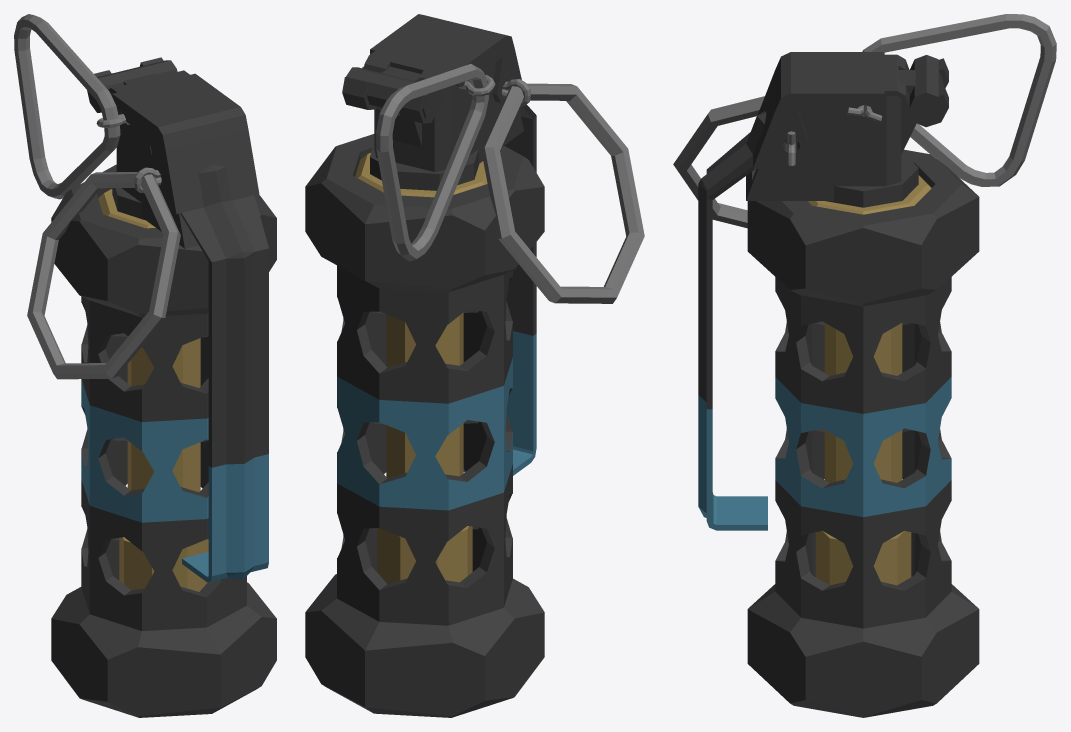
File: m84_stun_grenade_low-poly.glb
The picture shows the model from 3 angles, left to right: view 1: azimuth 30°, elevation 25°; view 2: azimuth 150°, elevation 25°; view 3: azimuth 270°, elevation 25°; orthographic projection. The views are drawn at different scales.
Parts seen in each view (by area): view 1: M84 Stun Grenade 1, M84 Stun Grenade 1 Safety Level 1_M84 Stun Grenade 1 Materia (×2), M84 Stun Grenade 1 Safety Pin 1 Ring 1_M84 Stun Grenade 1 Ma, M84 Stun Grenade 1 Secondary Safety Pin 1 Ring 1_M84 Stun Gr; view 2: M84 Stun Grenade 1, M84 Stun Grenade 1 Safety Level 1_M84 Stun Grenade 1 Materia (×2), M84 Stun Grenade 1 Safety Pin 1 Ring 1_M84 Stun Grenade 1 Ma, M84 Stun Grenade 1 Secondary Safety Pin 1 Ring 1_M84 Stun Gr; view 3: M84 Stun Grenade 1, M84 Stun Grenade 1 Safety Level 1_M84 Stun Grenade 1 Materia (×2), M84 Stun Grenade 1 Secondary Safety Pin 1 Ring 1_M84 Stun Gr, M84 Stun Grenade 1 Safety Pin 1 Ring 1_M84 Stun Grenade 1 Ma.
Boxes of the visible parts, bbox=[...] form: M84 Stun Grenade 1: bbox=[51, 60, 276, 717]; M84 Stun Grenade 1 Safety Level 1_M84 Stun Grenade 1 Materia (×2): bbox=[87, 57, 268, 582]; M84 Stun Grenade 1 Safety Pin 1 Ring 1_M84 Stun Grenade 1 Ma: bbox=[27, 172, 180, 379]; M84 Stun Grenade 1 Secondary Safety Pin 1 Ring 1_M84 Stun Gr: bbox=[14, 14, 120, 199]; M84 Stun Grenade 1: bbox=[305, 61, 544, 717]; M84 Stun Grenade 1 Safety Level 1_M84 Stun Grenade 1 Materia (×2): bbox=[342, 14, 536, 475]; M84 Stun Grenade 1 Safety Pin 1 Ring 1_M84 Stun Grenade 1 Ma: bbox=[481, 83, 644, 303]; M84 Stun Grenade 1 Secondary Safety Pin 1 Ring 1_M84 Stun Gr: bbox=[376, 64, 488, 261]; M84 Stun Grenade 1: bbox=[746, 55, 979, 717]; M84 Stun Grenade 1 Safety Level 1_M84 Stun Grenade 1 Materia (×2): bbox=[698, 52, 948, 530]; M84 Stun Grenade 1 Secondary Safety Pin 1 Ring 1_M84 Stun Gr: bbox=[862, 14, 1056, 186]; M84 Stun Grenade 1 Safety Pin 1 Ring 1_M84 Stun Grenade 1 Ma: bbox=[673, 96, 764, 228].
Bounding box in the file's own units: 0.0548 × 0.1406 × 0.0769.
